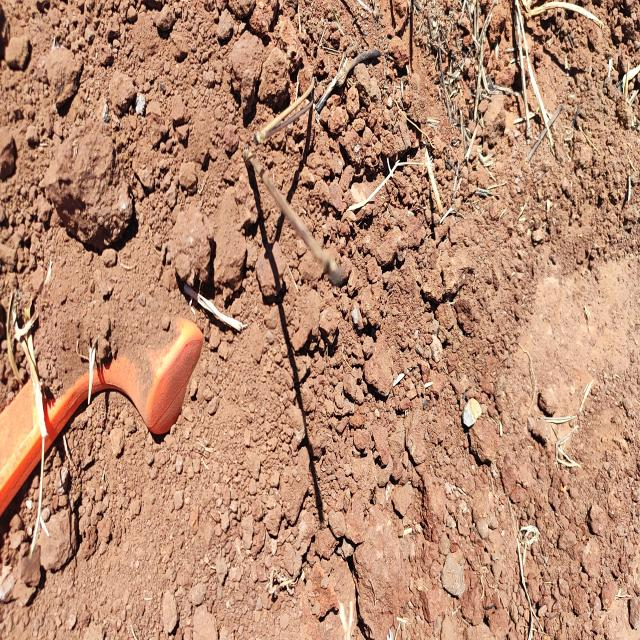Orange_hammer: (0, 312, 204, 518)
